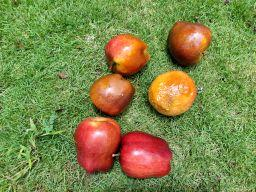apple: (106, 123, 177, 186), (66, 112, 126, 181), (143, 61, 200, 121), (80, 69, 138, 123), (161, 15, 210, 69), (96, 31, 153, 77)
